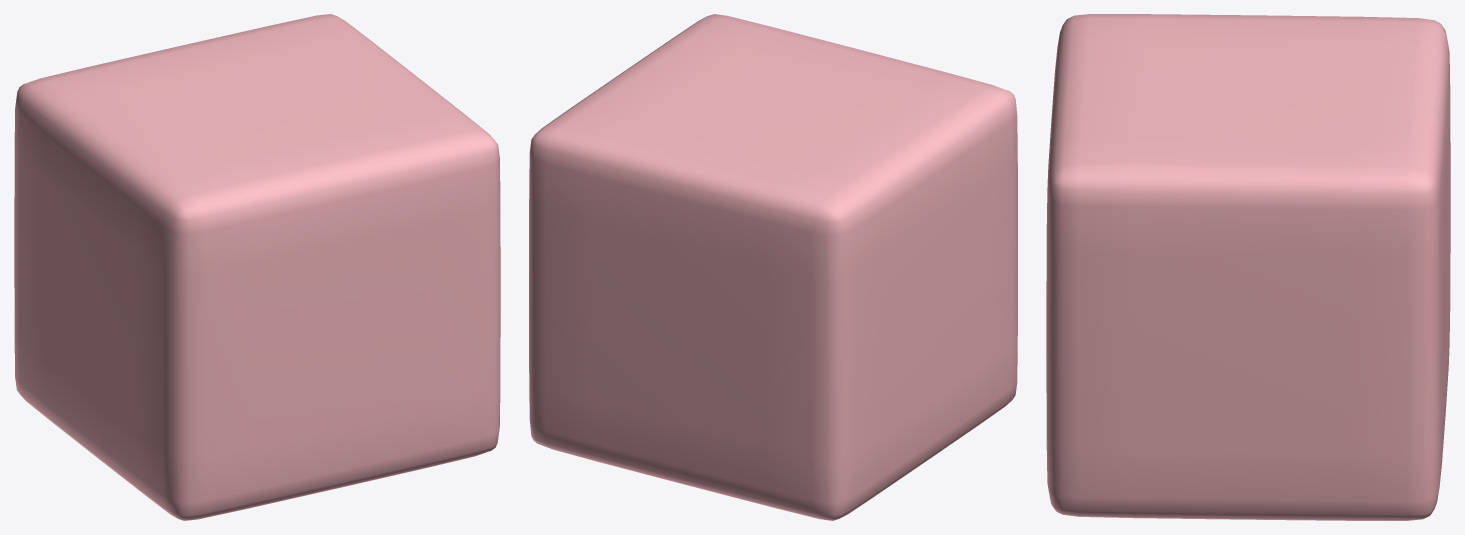
File: PROP_Bucket_v2.glb
The picture shows the model from 3 angles, left to right: view 1: azimuth 30°, elevation 25°; view 2: azimuth 150°, elevation 25°; view 3: azimuth 270°, elevation 25°; orthographic projection. The views are drawn at different scales.
Visible parts, largest first — view 1: PROP_Bucket_v2; view 2: PROP_Bucket_v2; view 3: PROP_Bucket_v2.
Part boxes in pixels (x1,y1,x2,y2): PROP_Bucket_v2: (14,14,500,520); PROP_Bucket_v2: (529,14,1017,520); PROP_Bucket_v2: (1046,14,1450,520).
Size of the model in its own units: 1.01 by 0.9355 by 0.9732.
